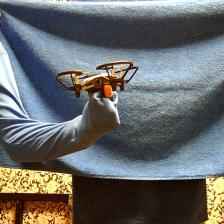drone: (54, 61, 142, 98)
